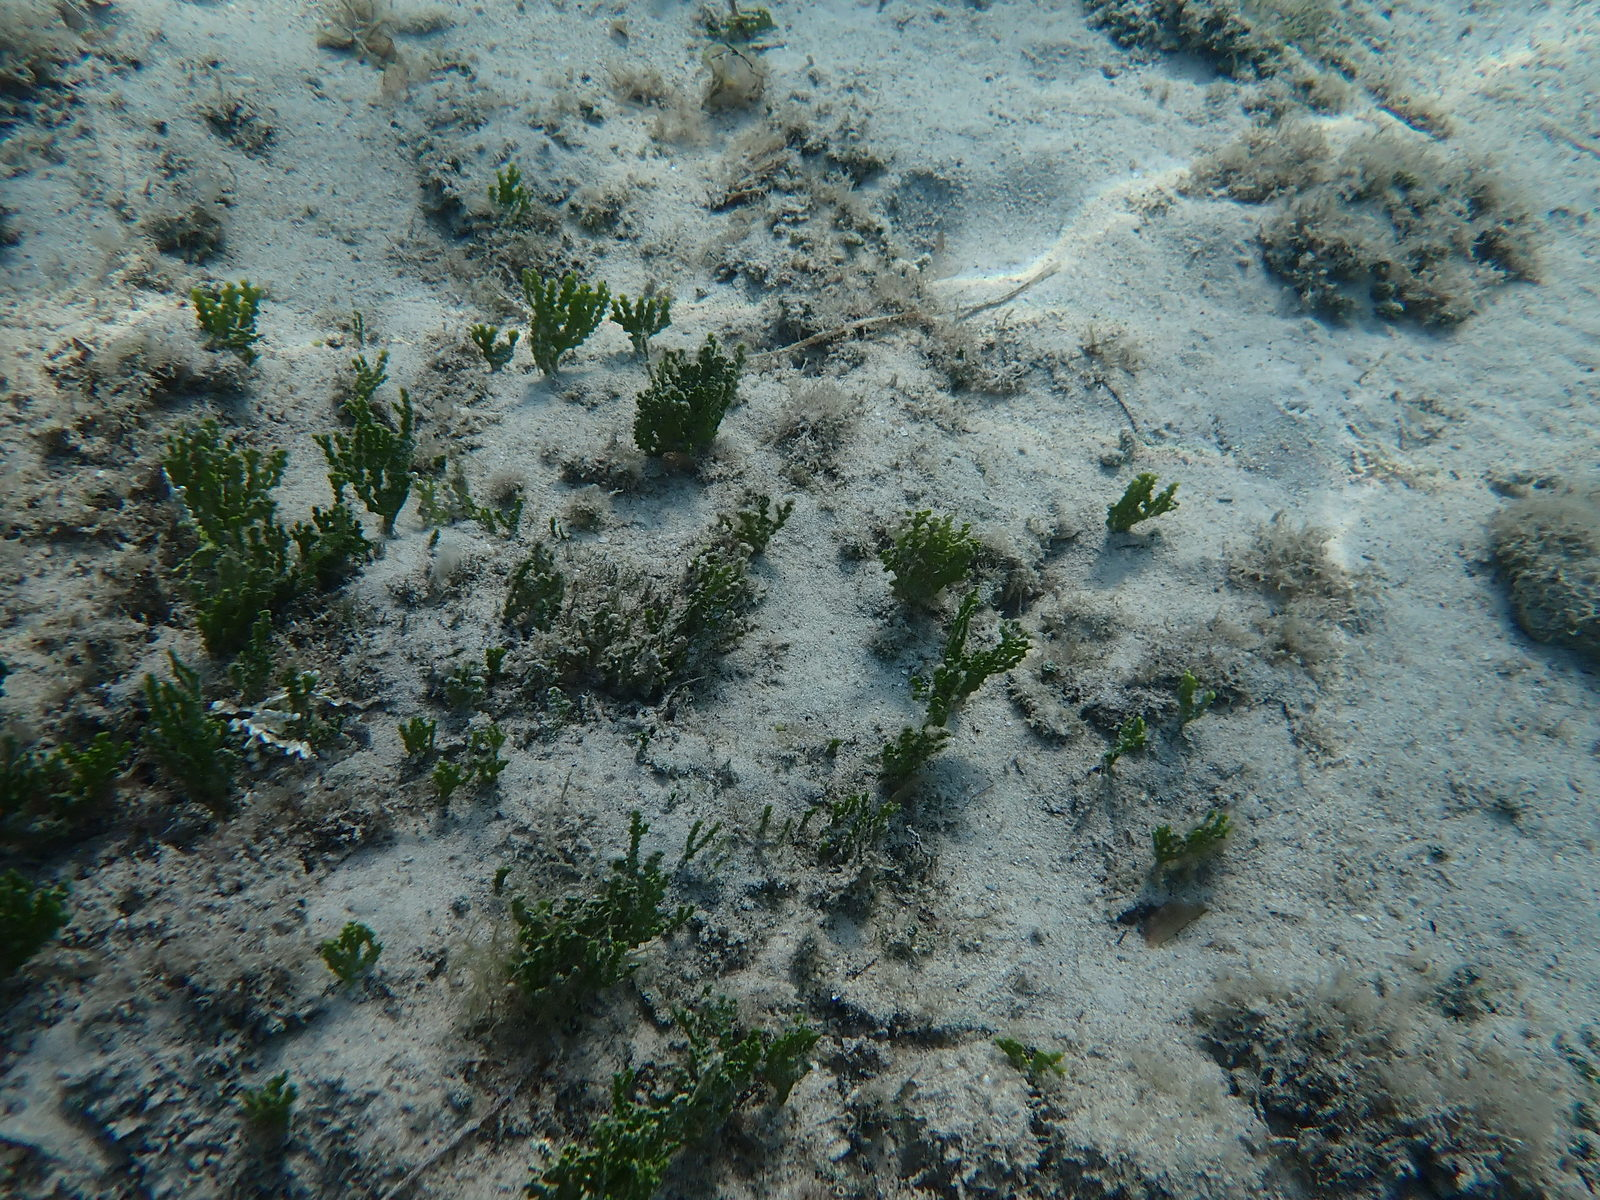halimeda: (159, 418, 289, 528), (147, 649, 226, 809), (210, 668, 348, 758), (644, 333, 748, 442), (509, 900, 616, 998), (520, 270, 611, 376), (876, 511, 981, 597), (185, 557, 297, 633), (718, 1025, 820, 1105), (532, 1145, 671, 1200), (350, 416, 413, 529), (231, 608, 273, 758), (4, 870, 74, 958), (593, 634, 687, 700), (52, 736, 134, 811), (189, 275, 265, 343), (1104, 471, 1186, 531), (202, 509, 290, 563), (968, 620, 1031, 696), (237, 1069, 299, 1143), (595, 1108, 700, 1148), (634, 387, 693, 458), (685, 1055, 747, 1122), (315, 919, 383, 977), (609, 808, 665, 876), (881, 724, 952, 776), (600, 871, 656, 935), (609, 299, 674, 348), (509, 563, 564, 619), (727, 500, 792, 545), (317, 432, 357, 502), (467, 321, 520, 368), (488, 163, 535, 212), (1191, 808, 1236, 857), (707, 560, 747, 614), (682, 814, 722, 867), (1178, 669, 1216, 724), (576, 606, 621, 649), (350, 350, 391, 398), (954, 586, 978, 662), (671, 1008, 711, 1054), (435, 755, 472, 797), (932, 661, 959, 718), (1150, 822, 1187, 863), (718, 13, 779, 37), (414, 476, 446, 522), (397, 718, 438, 753), (477, 503, 522, 533), (558, 642, 592, 681), (1110, 713, 1146, 749), (610, 1069, 637, 1109), (994, 1034, 1028, 1066), (1031, 1045, 1065, 1075), (294, 522, 317, 563), (475, 754, 509, 782), (688, 596, 711, 632), (643, 606, 666, 637), (833, 794, 858, 821), (485, 645, 506, 676), (394, 387, 411, 422), (876, 800, 900, 824), (486, 725, 506, 753), (350, 310, 363, 345), (677, 903, 695, 925), (495, 865, 510, 890), (470, 729, 484, 754), (740, 534, 750, 568), (803, 808, 816, 829), (860, 795, 871, 824), (763, 800, 772, 829)
